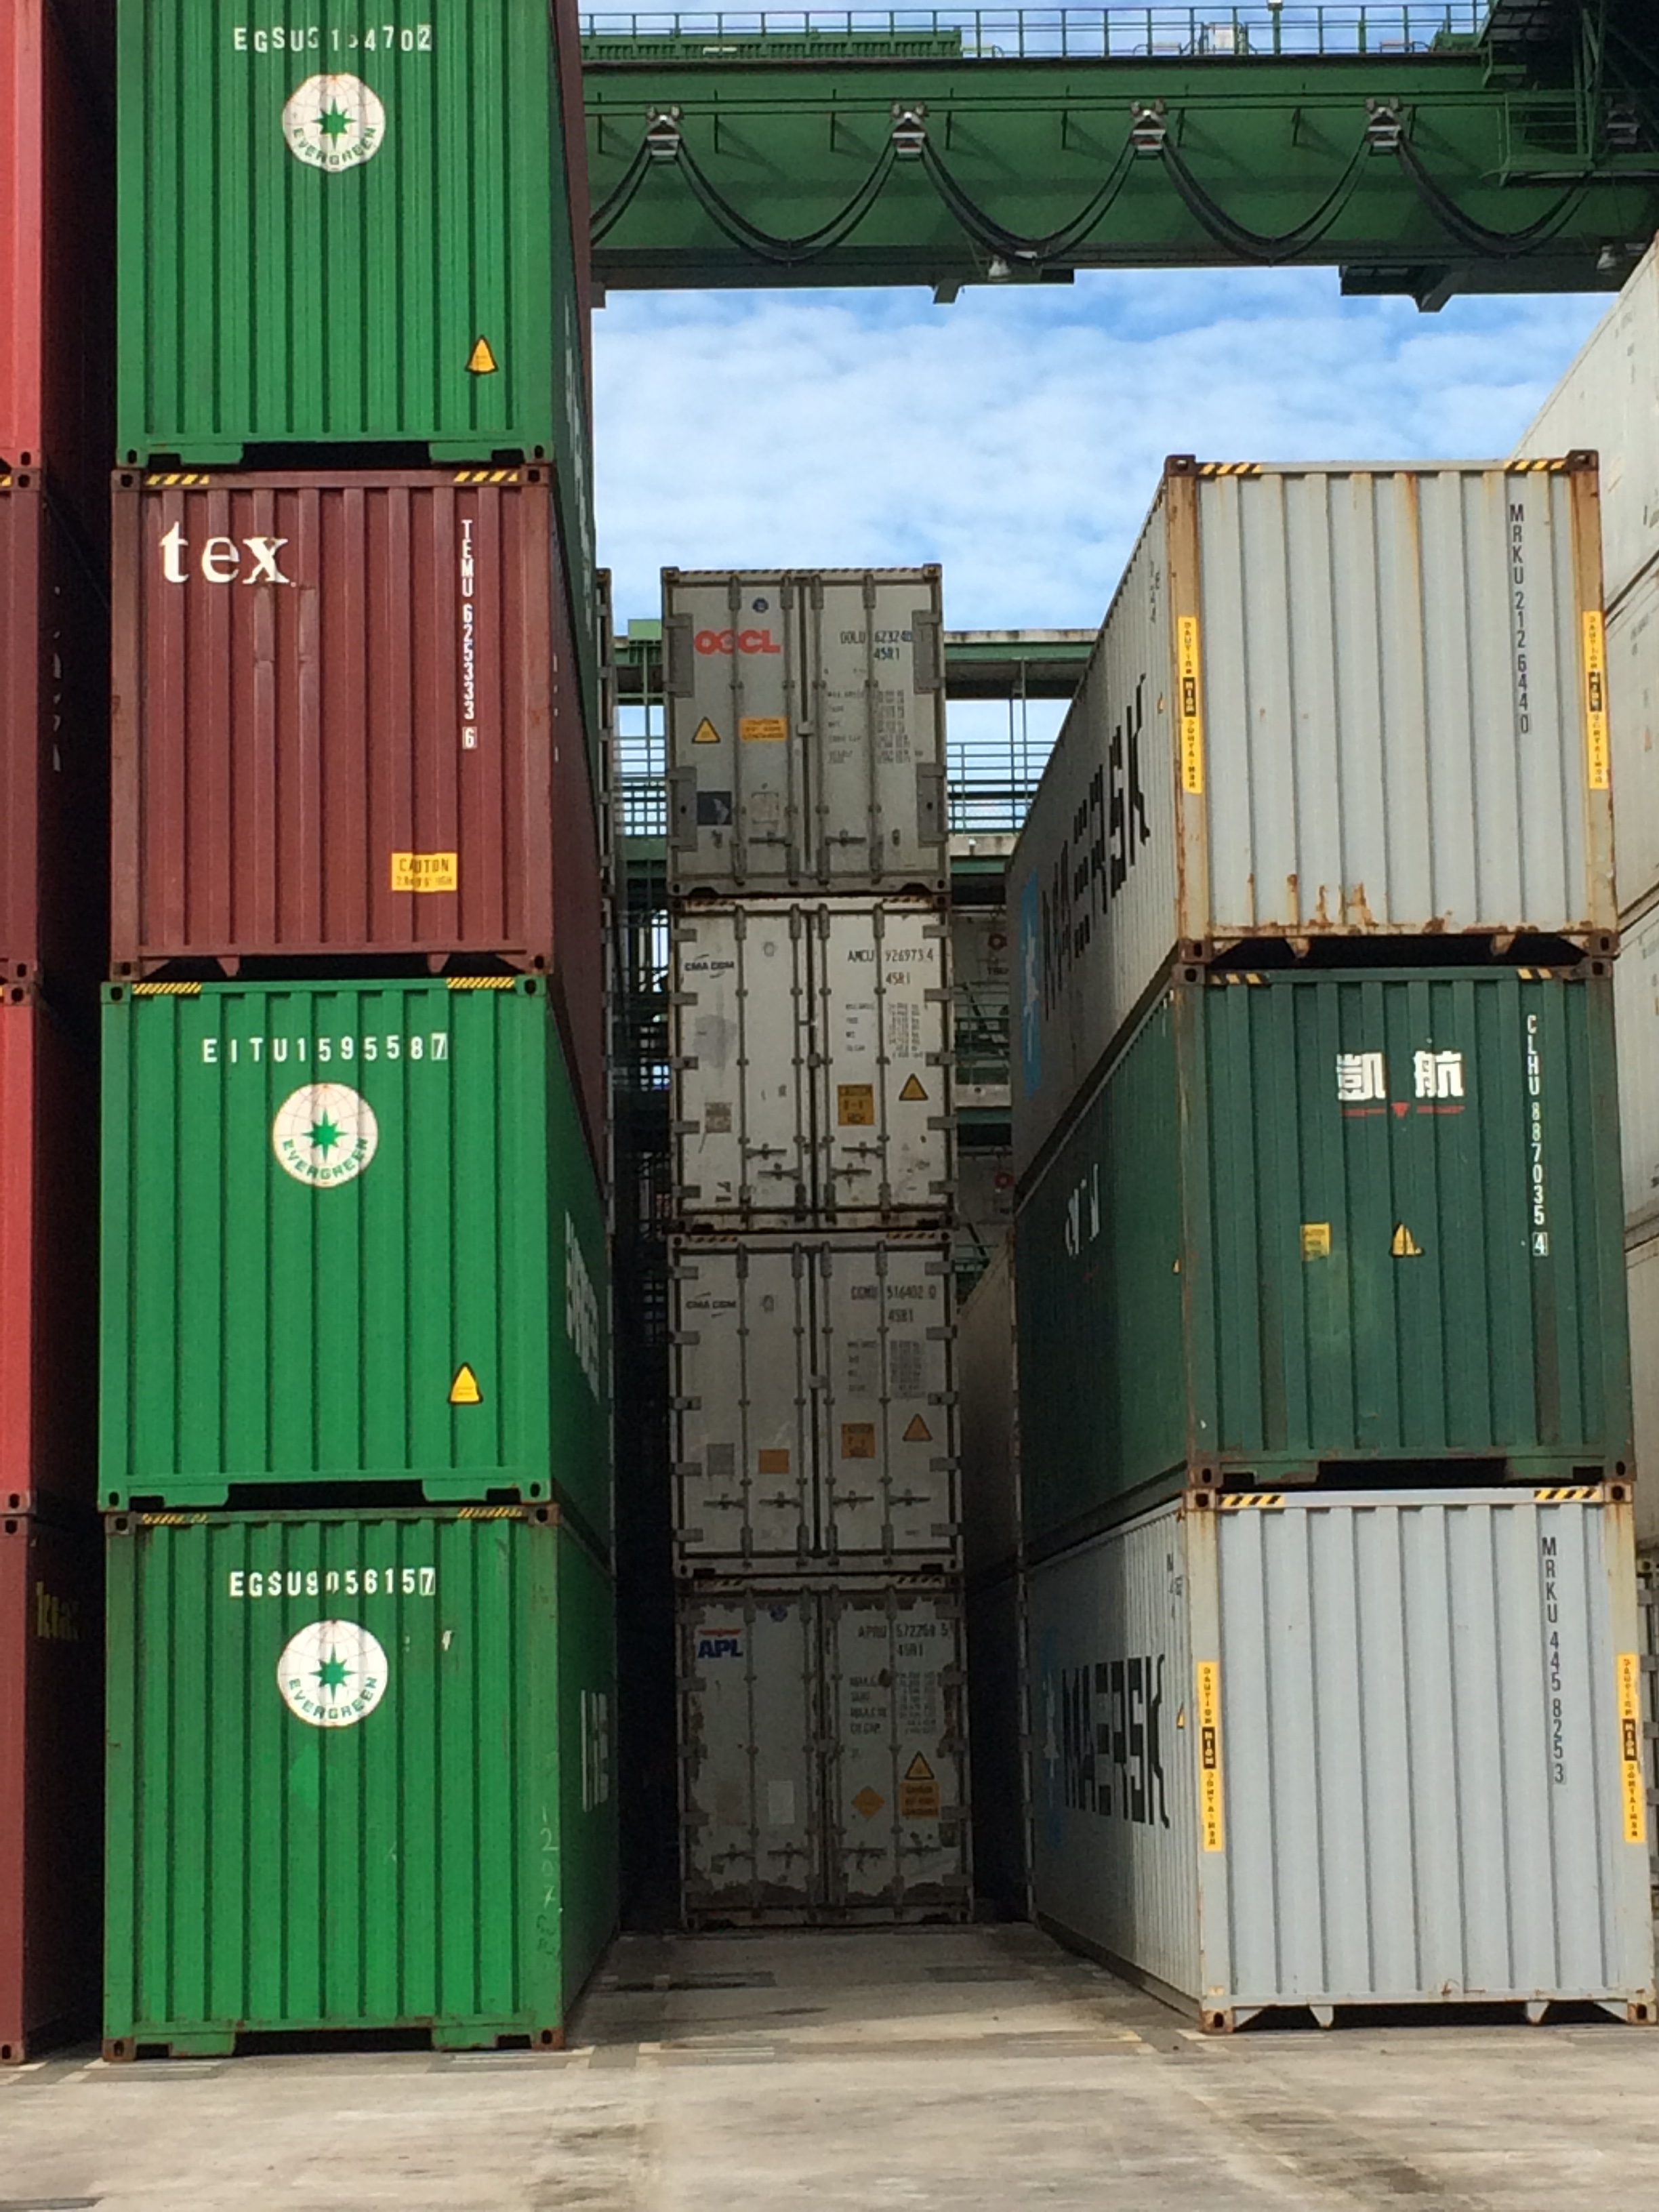container_door: (662, 563, 951, 899), (683, 1583, 972, 1919), (667, 899, 955, 1235), (680, 1244, 967, 1580)
container_no_door: (1169, 948, 1635, 1486), (1183, 1491, 1647, 2029), (105, 1503, 554, 2054), (105, 977, 549, 1503), (110, 469, 558, 982), (1168, 453, 1629, 951), (112, 0, 561, 460)
